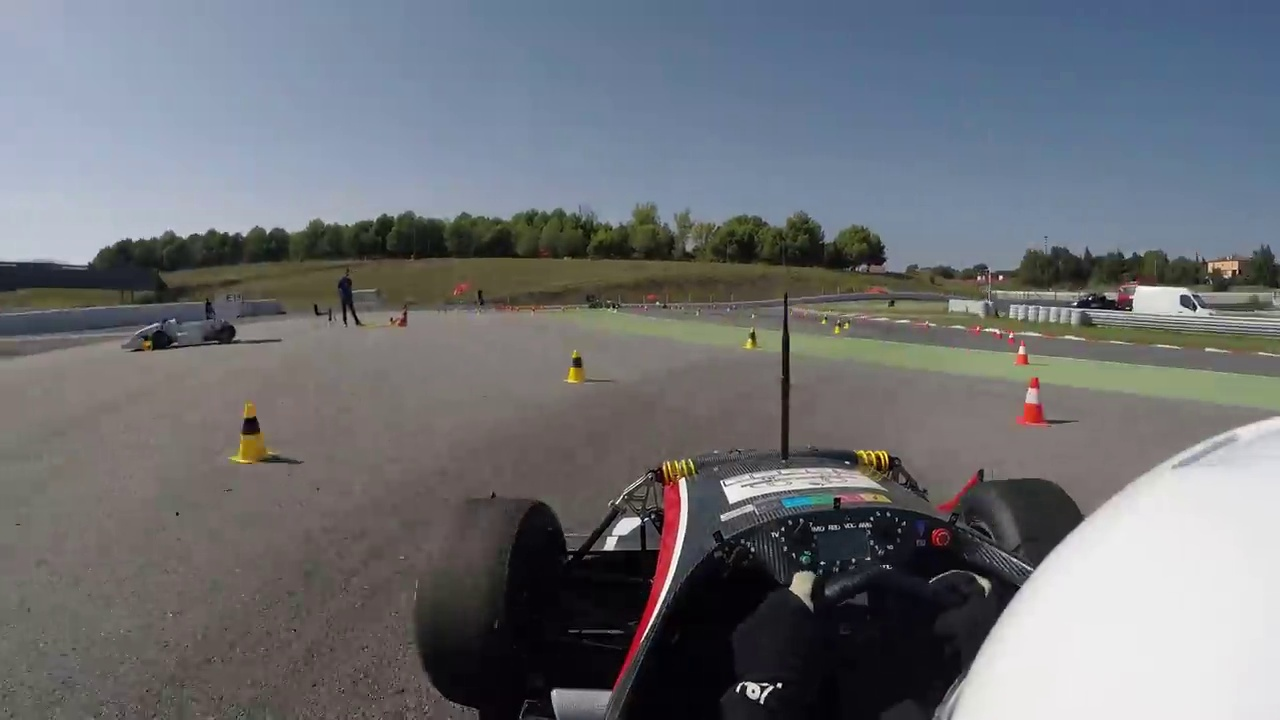Cone: (232, 400, 277, 464), (1015, 373, 1049, 425), (567, 345, 590, 382), (1012, 339, 1036, 370), (743, 325, 766, 354)
